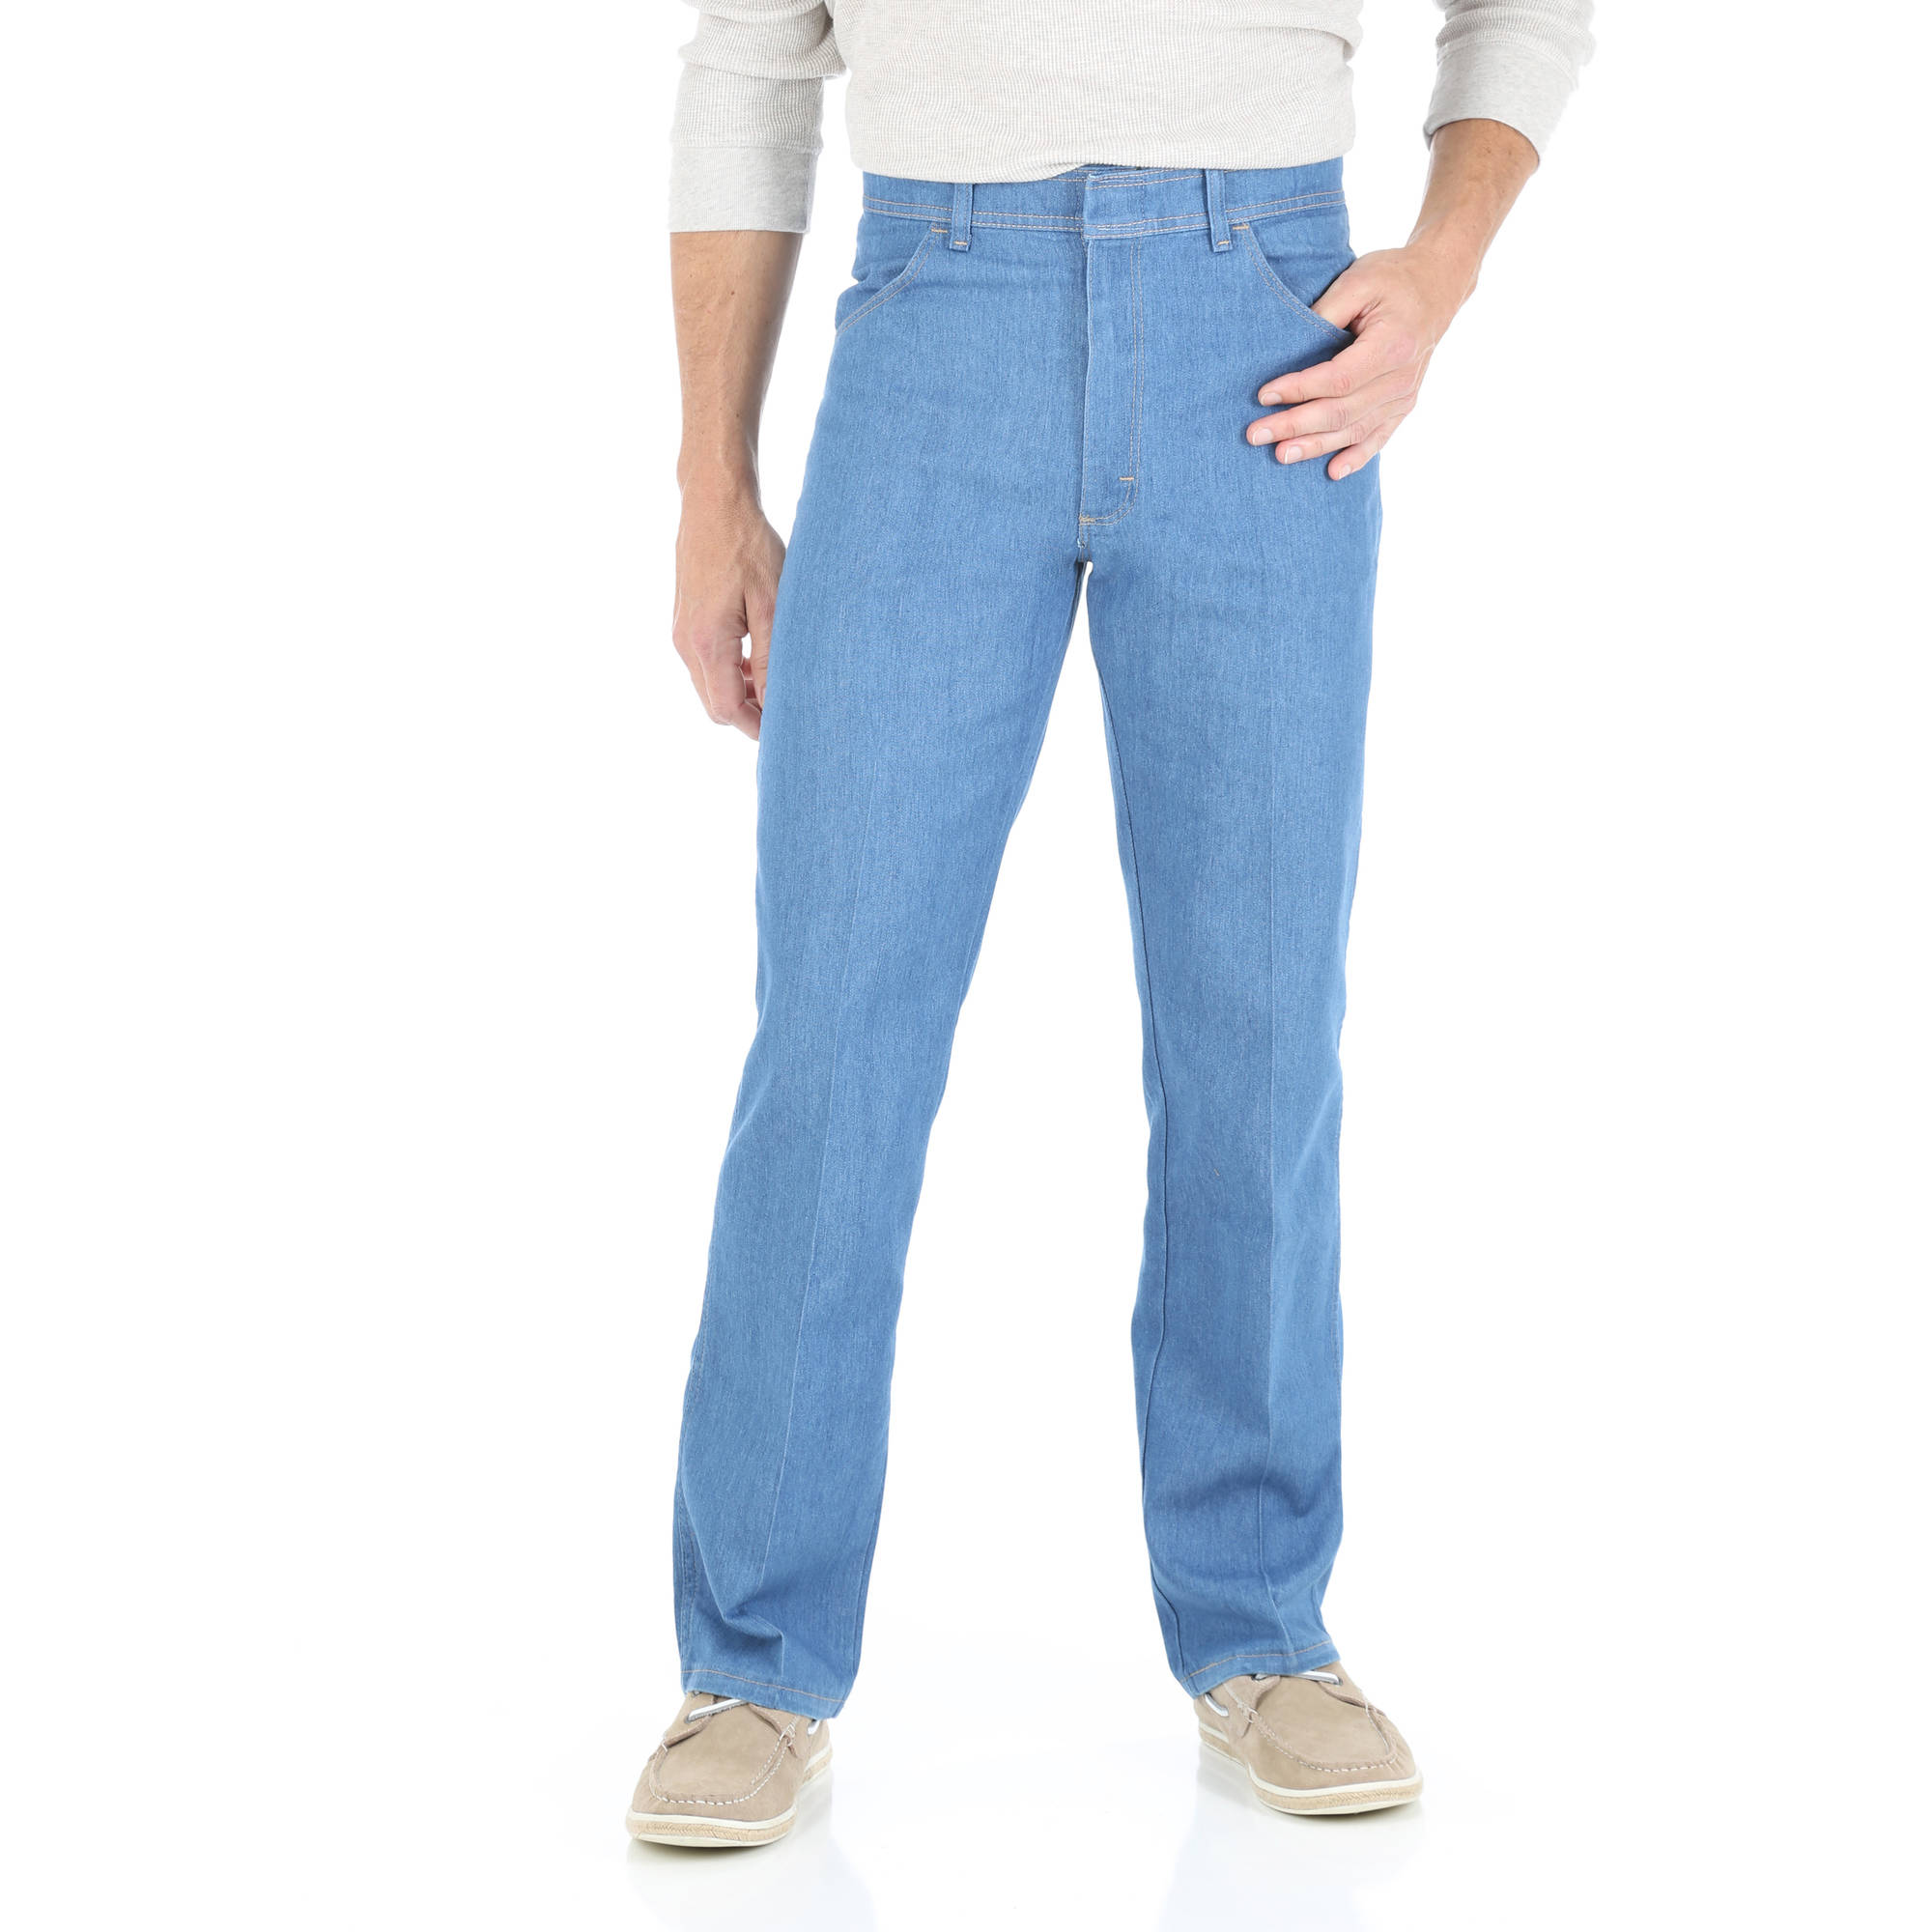jeans: (665, 143, 1417, 1670)
